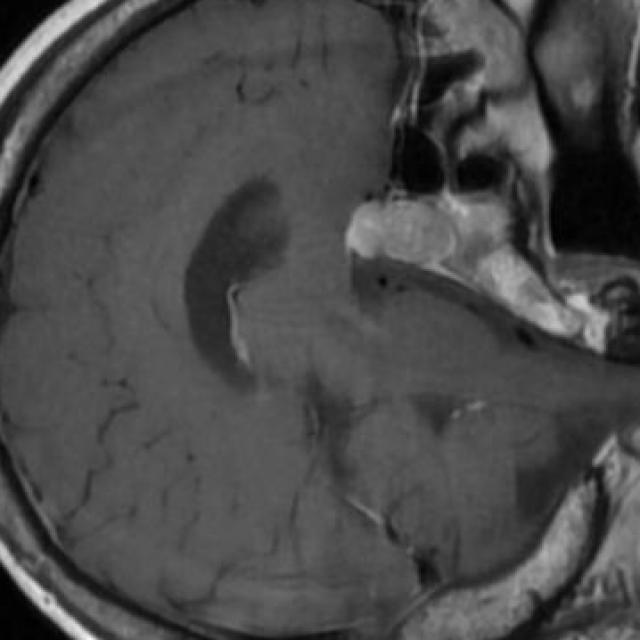pituitary: (346, 200, 458, 266)
